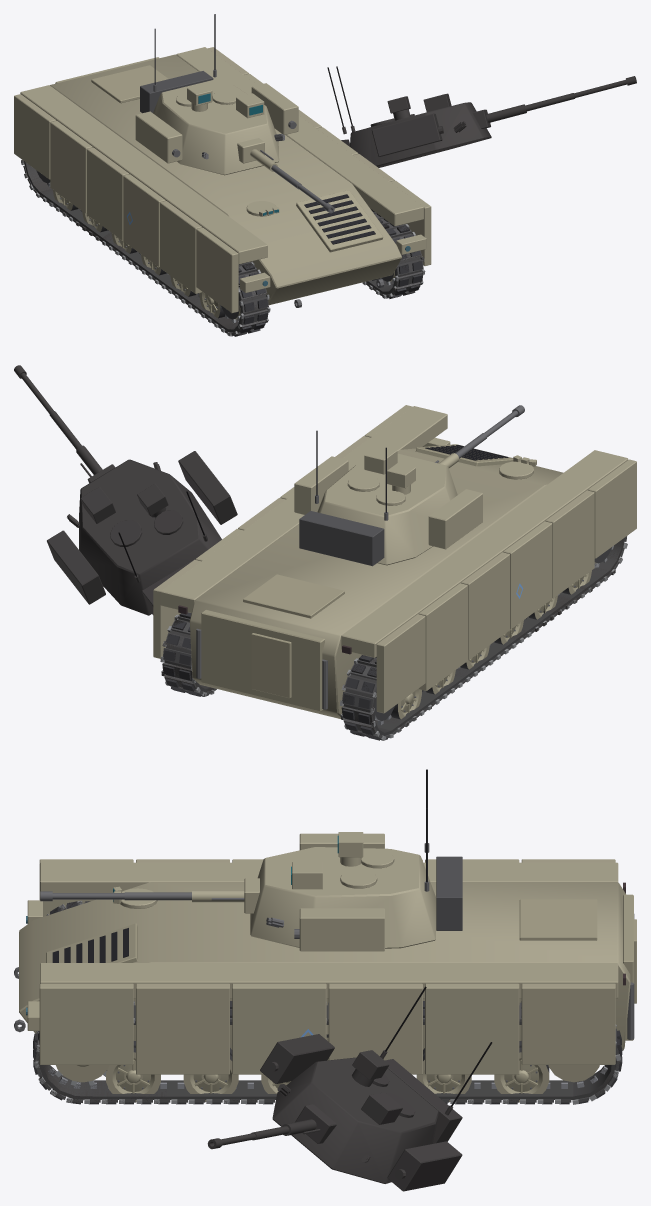
File: ifv__lynx_kf41_lance_italy.glb
3 renders of one model, top to bottom at view 1: azimuth 30°, elevation 25°; view 2: azimuth 150°, elevation 25°; view 3: azimuth 270°, elevation 25°, orthographic. The views are drawn at different scales.
Visible parts, largest first — view 1: Hull_Mesh, Turret_Mesh, Wreck, Track_L_Mesh, Track_R_Mesh, Gun_Mesh; view 2: Hull_Mesh, Wreck, Turret_Mesh, Track_L_Mesh, Track_R_Mesh, Gun_Mesh; view 3: Hull_Mesh, Wreck, Turret_Mesh, Track_R_Mesh, Gun_Mesh, Wheel_R0_Mesh, Wheel_R5_Mesh, Wheel_R4_Mesh, Wheel_R1_Mesh, Sprocket_R_Mesh, Idler_R_Mesh.
Part boxes in pixels (bbox=[...]): Hull_Mesh: bbox=[14, 47, 431, 313]; Turret_Mesh: bbox=[135, 14, 298, 175]; Wreck: bbox=[21, 66, 636, 336]; Track_L_Mesh: bbox=[21, 160, 270, 336]; Track_R_Mesh: bbox=[362, 208, 425, 298]; Gun_Mesh: bbox=[237, 138, 334, 213]; Hull_Mesh: bbox=[153, 405, 636, 718]; Wreck: bbox=[14, 365, 626, 738]; Turret_Mesh: bbox=[294, 430, 482, 566]; Track_L_Mesh: bbox=[339, 536, 627, 740]; Track_R_Mesh: bbox=[160, 612, 216, 696]; Gun_Mesh: bbox=[435, 405, 524, 467]; Hull_Mesh: bbox=[14, 859, 636, 1074]; Wreck: bbox=[33, 901, 620, 1191]; Turret_Mesh: bbox=[250, 769, 462, 951]; Track_R_Mesh: bbox=[33, 1001, 622, 1104]; Gun_Mesh: bbox=[40, 878, 259, 913]; Wheel_R0_Mesh: bbox=[494, 1041, 549, 1102]; Wheel_R5_Mesh: bbox=[106, 1041, 160, 1102]; Wheel_R4_Mesh: bbox=[183, 1048, 238, 1101]; Wheel_R1_Mesh: bbox=[416, 1048, 471, 1101]; Sprocket_R_Mesh: bbox=[55, 1065, 109, 1085]; Idler_R_Mesh: bbox=[548, 1065, 599, 1082].
Size of what is drawn, in the model's own units: 9.26 by 3.67 by 8.02.
